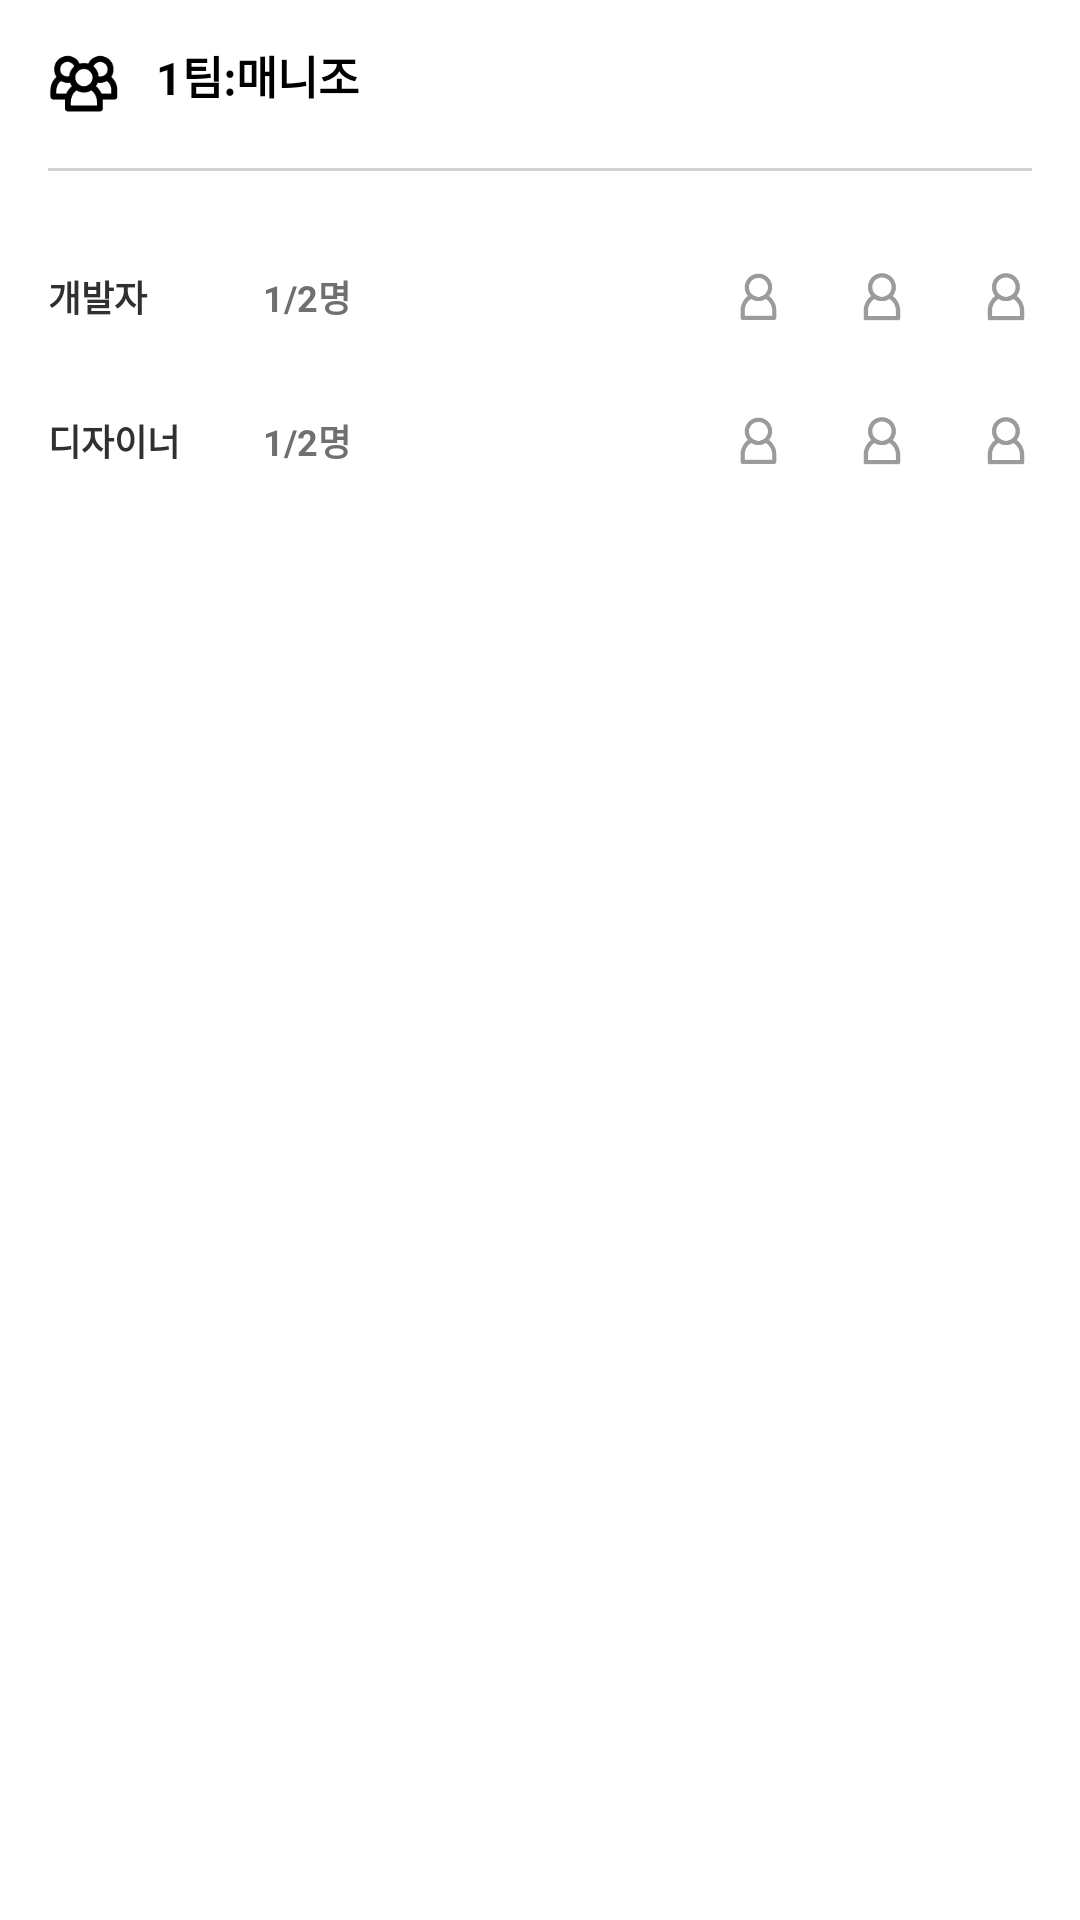

Where to tap for icons on this 1080 x 1920 app screen, as (x,y):
indivi nonecolor: (882,296), (1006,296), (758,297), (882,440), (1006,440), (758,441)
